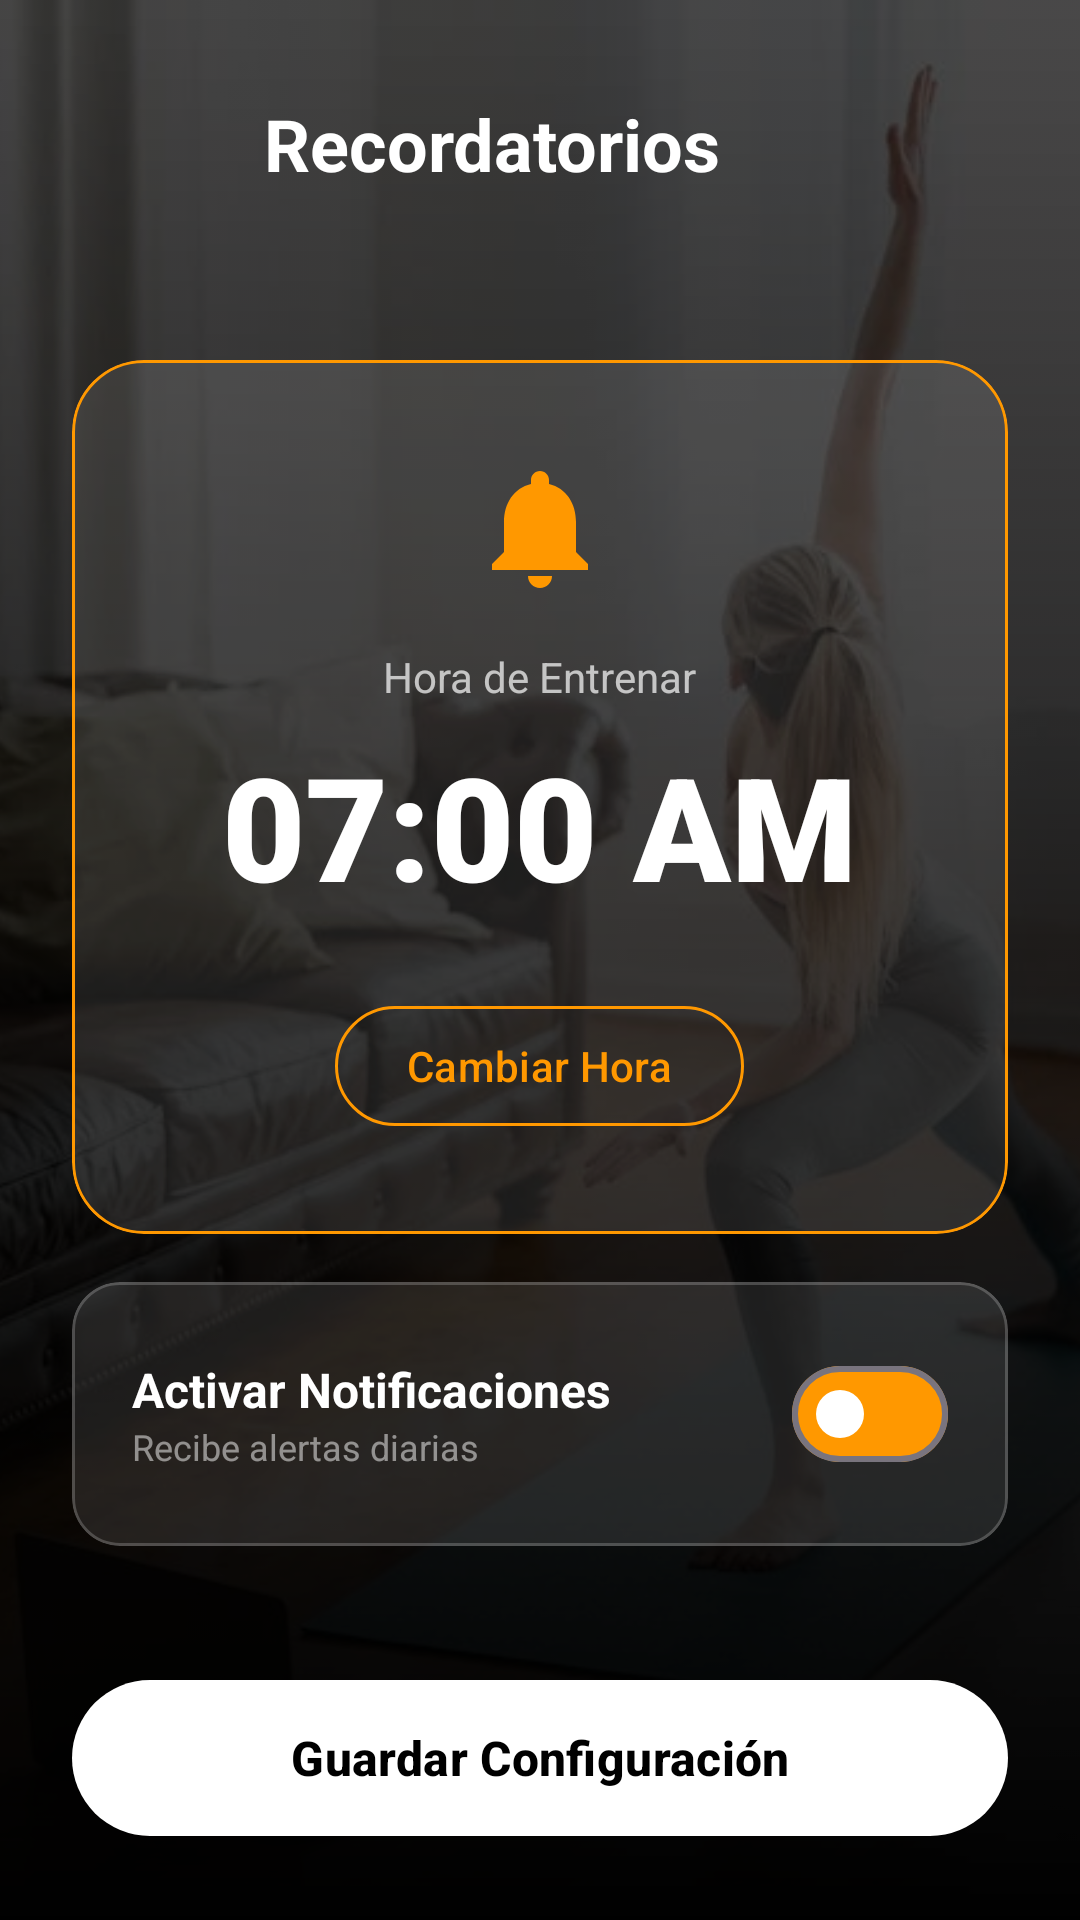

Named icons in this screenshot (1080×1920) and their centers, (x=x, y=y):
notifications: (x=540, y=529)
